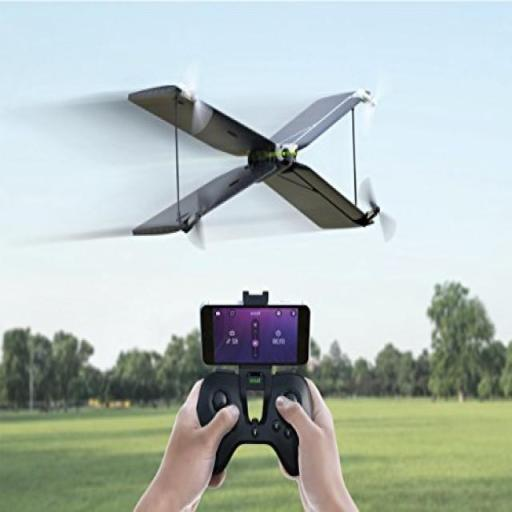uav: (114, 66, 396, 260)
